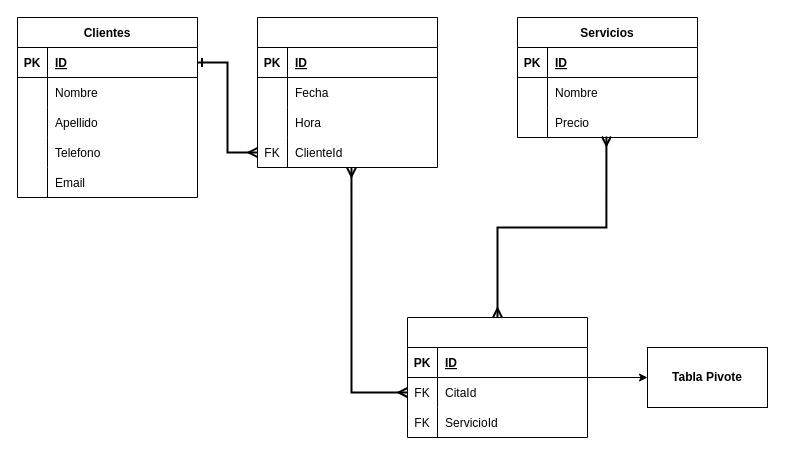
The diagram is 785 pixels wide and 455 high, and some of its shapes have lost their labels. The shapes that lost their labels are listed below. From the top down, each one's box as (x1, y1, x2, y2) in pixels, then its label:
(256, 16, 438, 168): Citas
(406, 316, 588, 438): CitasServicios
